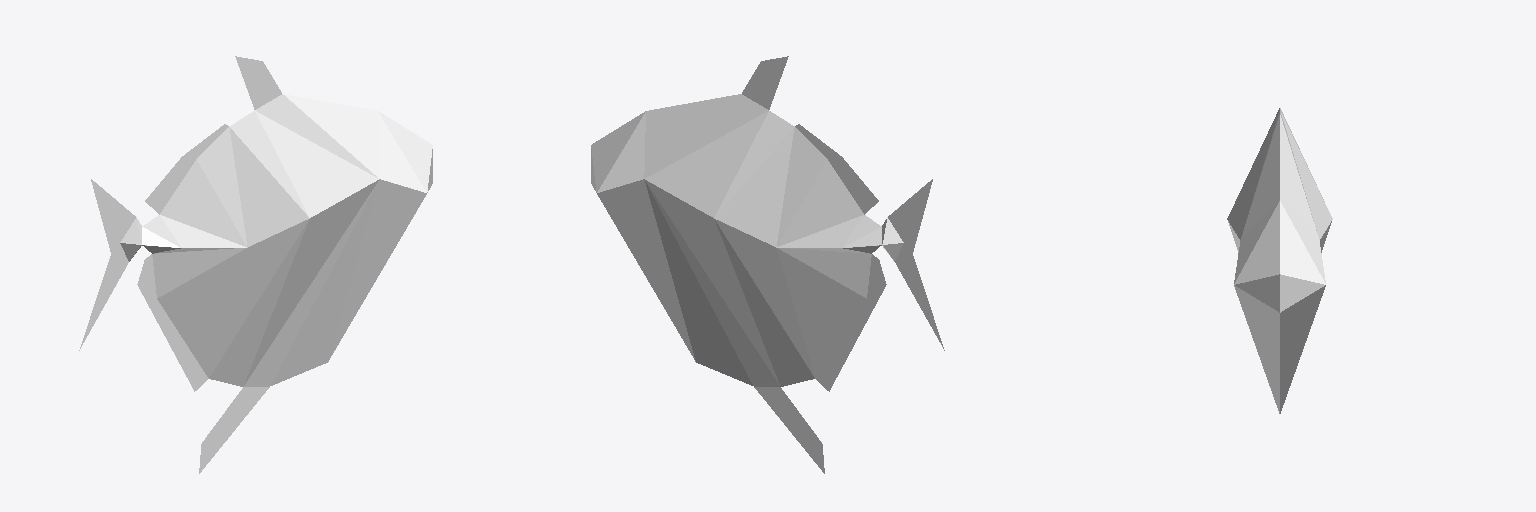
Rendered from moonfish.obj.
The picture shows the model from 3 angles: view 1: azimuth 30°, elevation 25°; view 2: azimuth 150°, elevation 25°; view 3: azimuth 270°, elevation 25°; orthographic projection.
Size of the model in its own units: 1.59 by 1.76 by 0.4107.